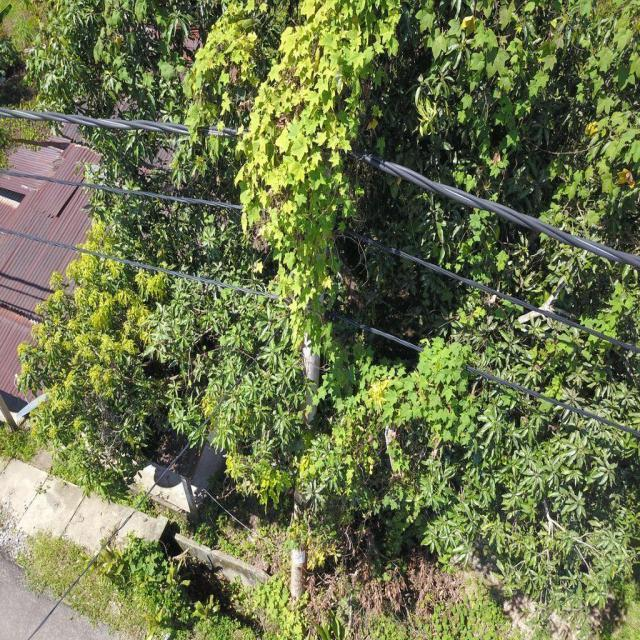critical vegetation: (240, 18, 348, 590)
